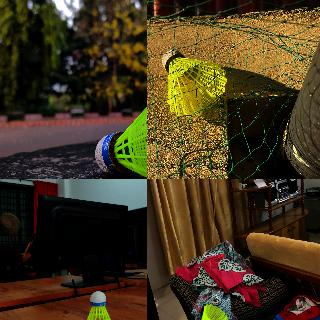shuttlecock: (94, 69, 146, 178), (162, 50, 226, 116), (78, 291, 118, 319), (194, 304, 228, 319)
